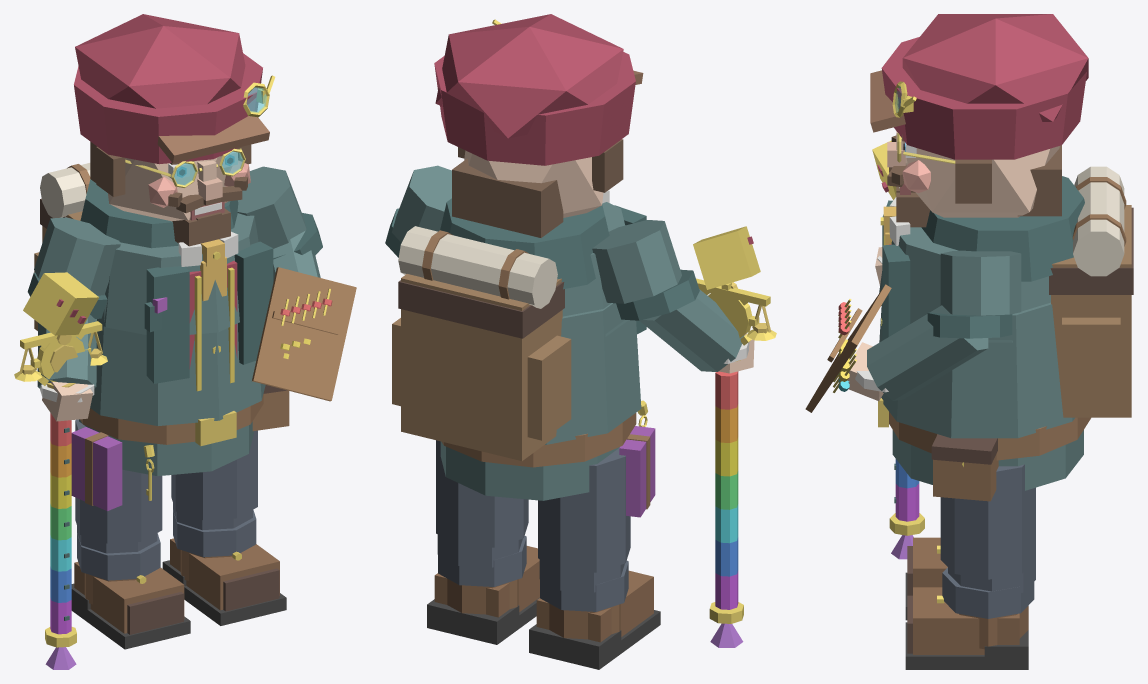
Rendered from shopkeeper.glb.
3 views of the same model, side by side, from view 1: azimuth 30°, elevation 25°; view 2: azimuth 150°, elevation 25°; view 3: azimuth 270°, elevation 25° (orthographic). The views are drawn at different scales.
Parts seen in each view (by area): view 1: Shopkeeper; view 2: Shopkeeper; view 3: Shopkeeper.
Boxes of the visible parts, x1,y1,x2,y2 form: Shopkeeper: [14, 14, 356, 669]; Shopkeeper: [385, 14, 776, 669]; Shopkeeper: [805, 14, 1133, 669].
Bounding box in the file's own units: 1.11 × 1.83 × 0.8924.
